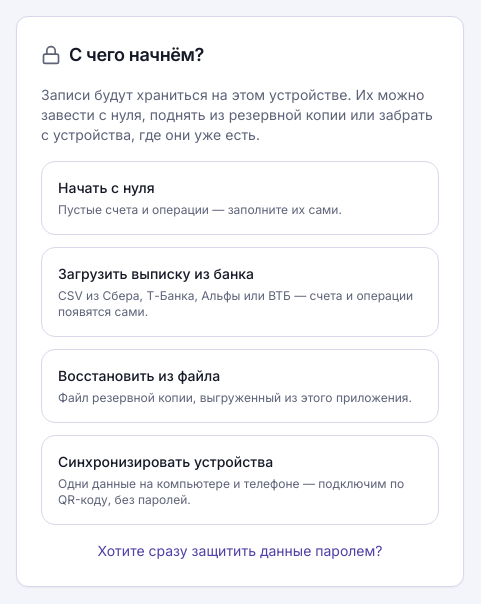
Test case: связка по картинке на первом запуске › предлагает первое устройство или подключение по QR — без имени и пароля
The width and height of the screenshot is (481, 604).
Click the text "Синхронизировать устройства" at (166, 461), box top-left (58, 452), bottom-right (273, 470)
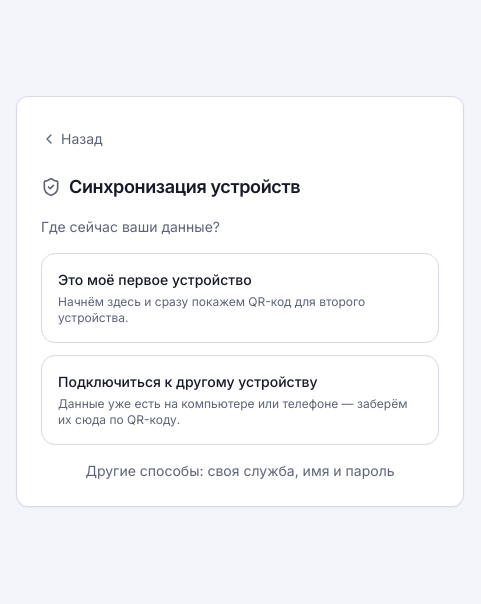
Result: the text "Это моё первое устройство" is shown at top-left (58, 270), bottom-right (252, 288)
Click the text "Подключиться к другому устройству" at (188, 381), box top-left (58, 372), bottom-right (318, 390)
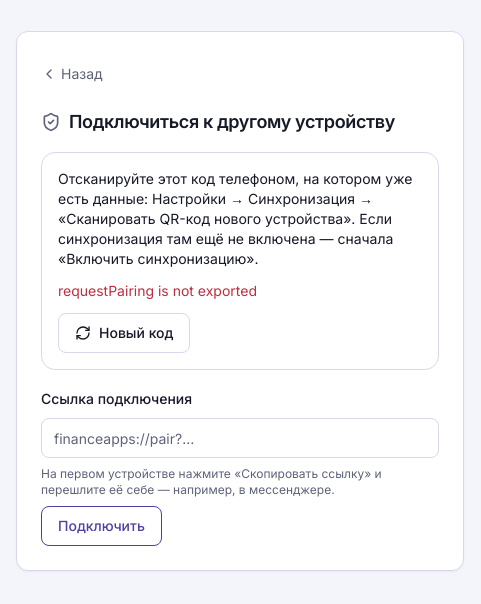
Result: the field labelled "Ссылка подключения" is shown at top-left (41, 418), bottom-right (439, 458)
Result: the button labelled "пароль" is gone
